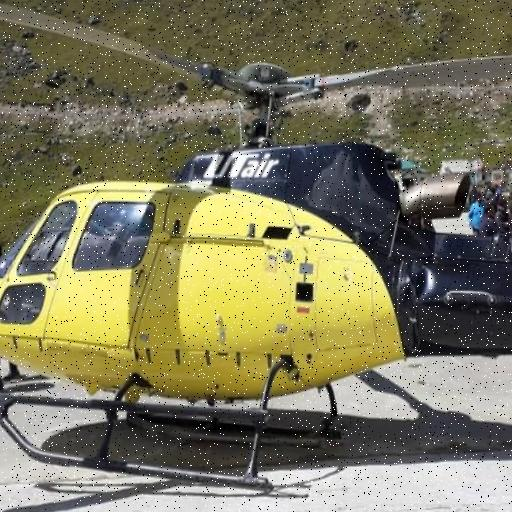helicopter: (1, 16, 512, 488)
